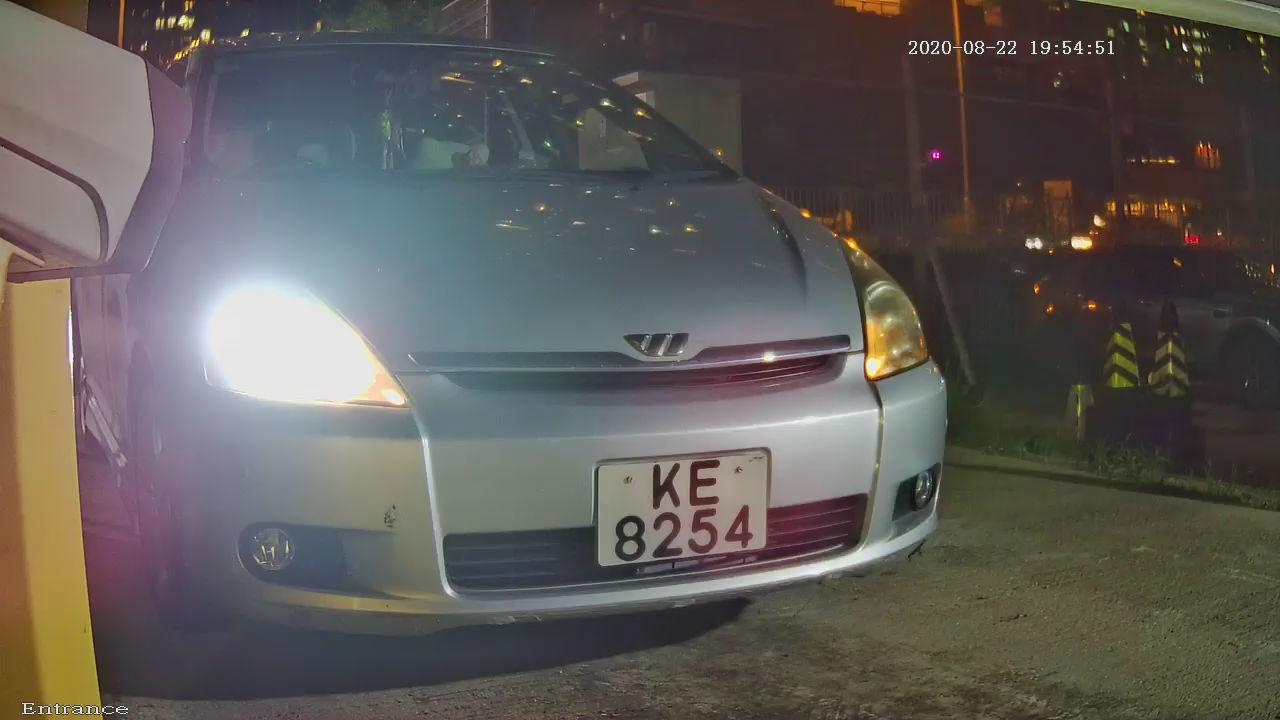Car: (12, 1, 1018, 701)
License Plate: (578, 441, 783, 579)
